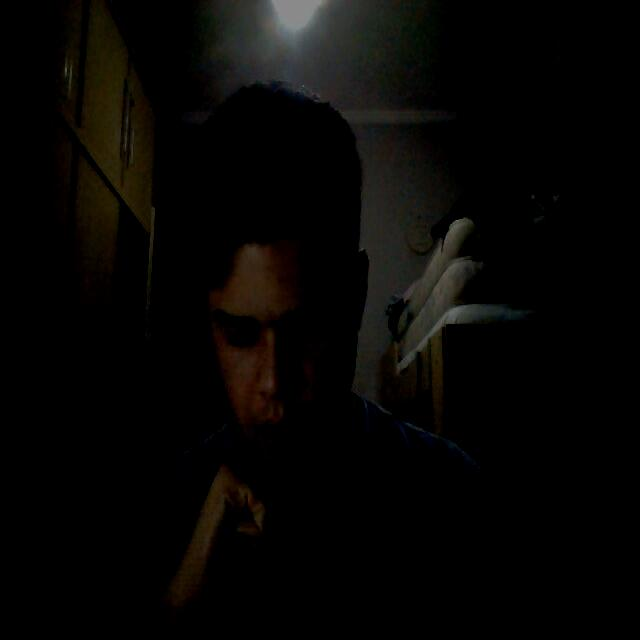sonolento: (185, 228, 375, 594)
